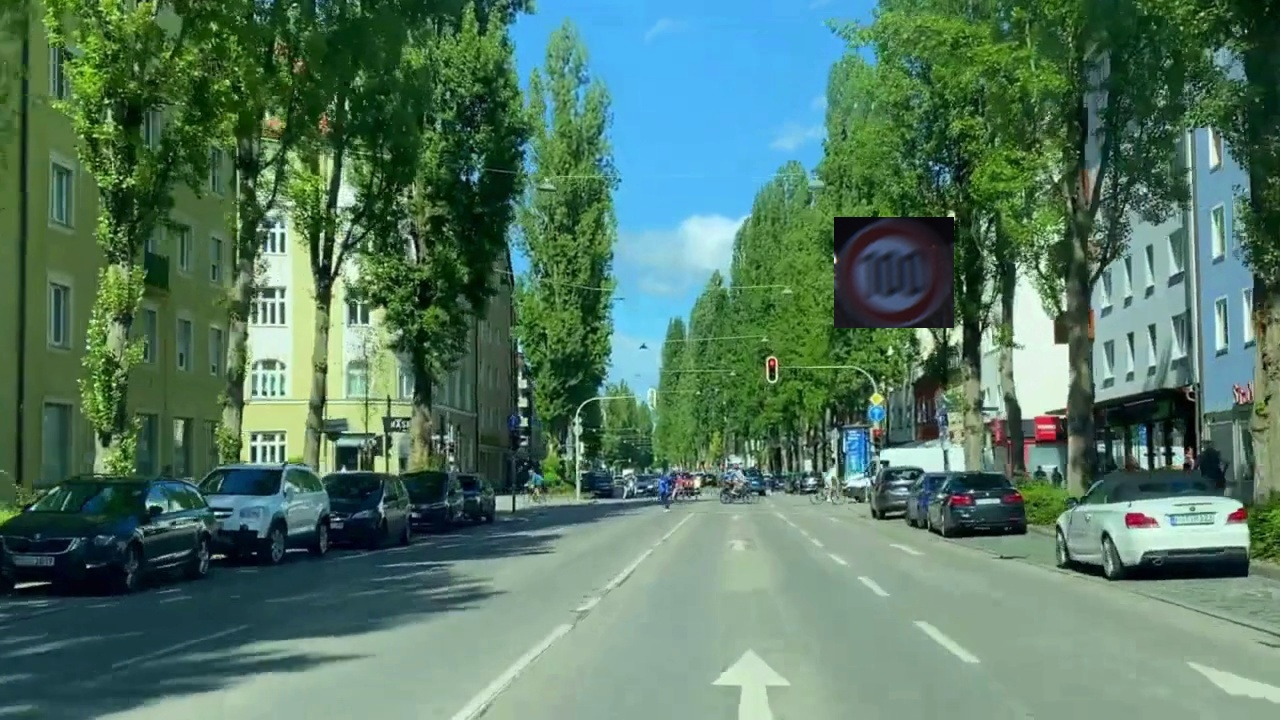Speed 100: (834, 217, 954, 328)
